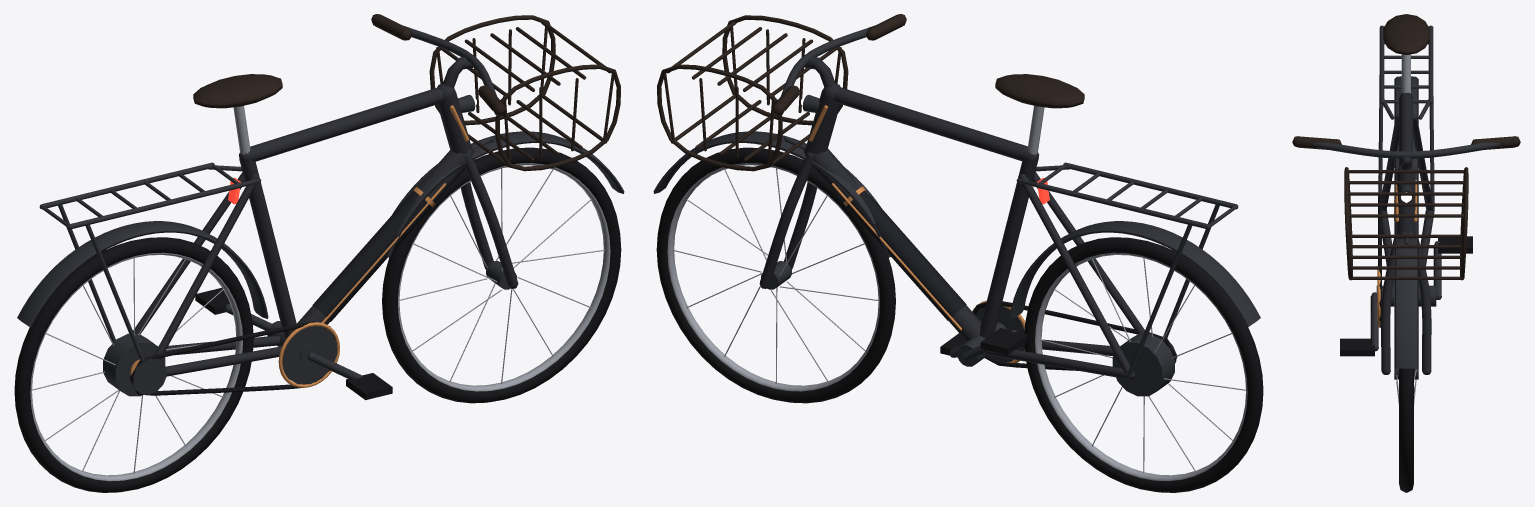
The model's file is vela-lite.glb.
3 views of the same model, side by side, from view 1: azimuth 30°, elevation 25°; view 2: azimuth 150°, elevation 25°; view 3: azimuth 270°, elevation 25° (orthographic). The views are drawn at different scales.
Visible parts, largest first — view 1: Bike, Basket, Rack; view 2: Bike, Basket, Rack; view 3: Bike, Basket, Rack.
Boxes of the visible parts, <box> form: Bike: <box>14,14,624,492</box>; Basket: <box>429,15,620,171</box>; Rack: <box>39,162,261,361</box>; Bike: <box>653,14,1263,492</box>; Basket: <box>657,15,848,171</box>; Rack: <box>1016,162,1238,377</box>; Bike: <box>1292,14,1520,492</box>; Basket: <box>1344,167,1468,280</box>; Rack: <box>1378,25,1434,210</box>.
Size of the model in its own units: 1.78 by 1.07 by 0.6531.
